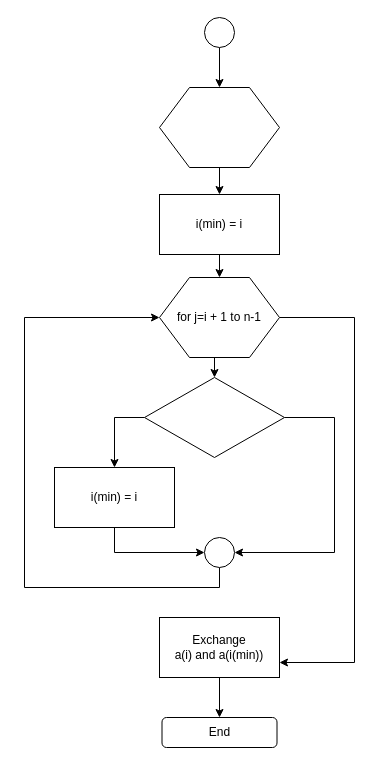
The diagram is 380 pixels wide and 765 high, and some of its shapes have lost their labels. The centre of each missing label's shape, as x and y in pixels:
"for 1-0 to n=2" belongs at (x=219, y=127).
"if (a(j) < a (i(min))" belongs at (x=214, y=417).
